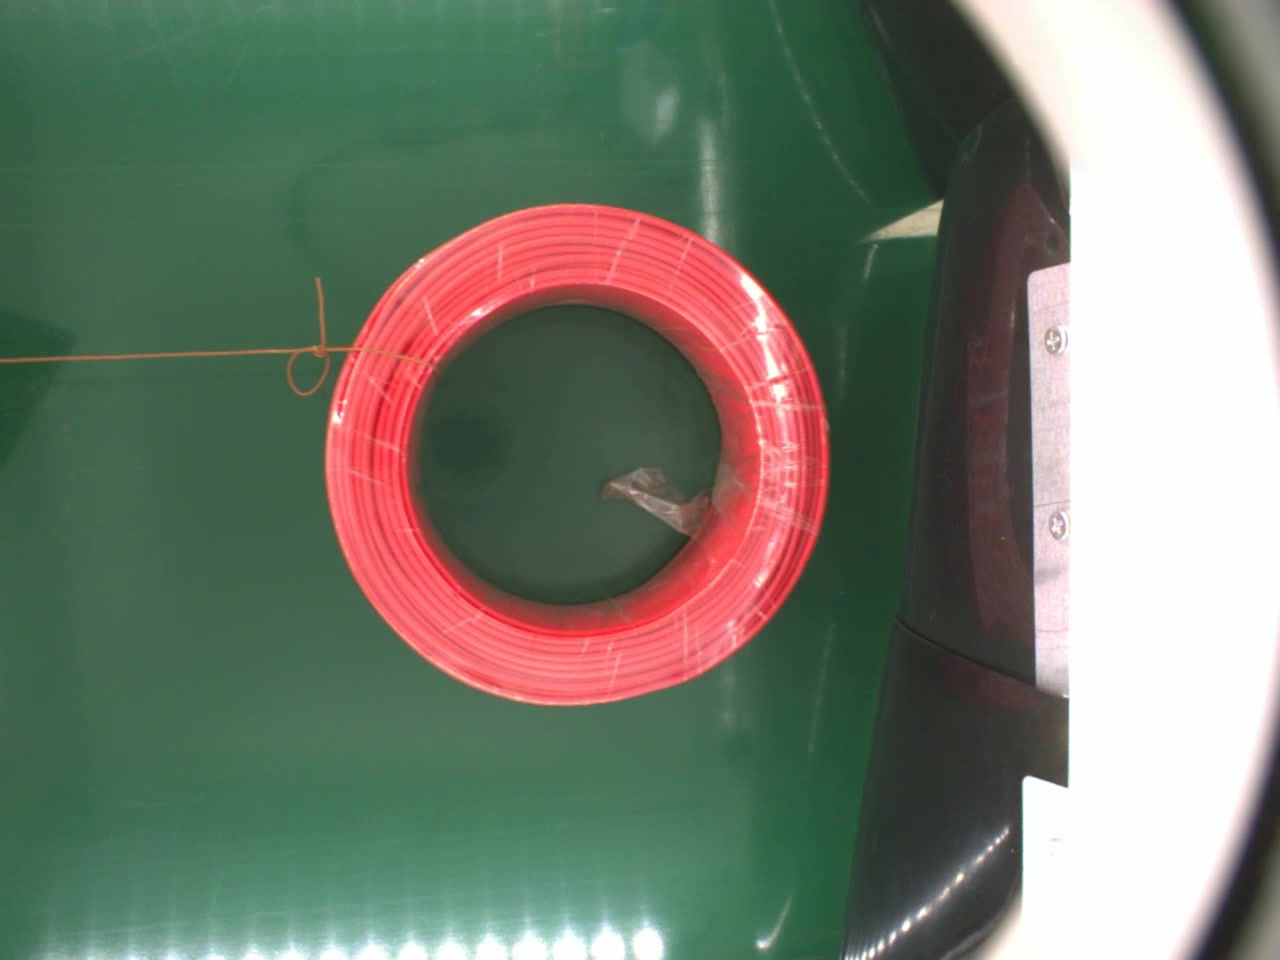red: (319, 203, 830, 713)
